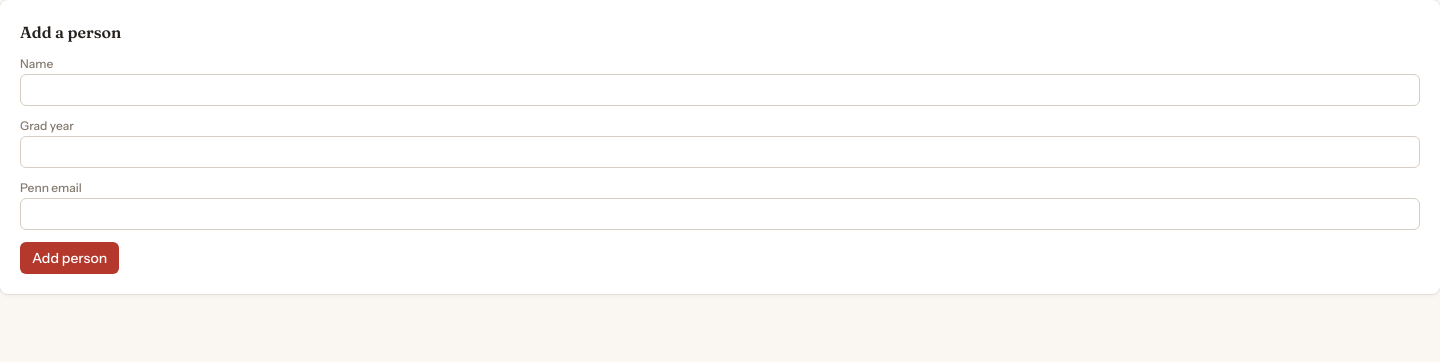
Test: AddPersonForm › shows a database error verbatim
Type "Dup" into the field labelled "Name" at (720, 90), box [20, 74, 1420, 106]
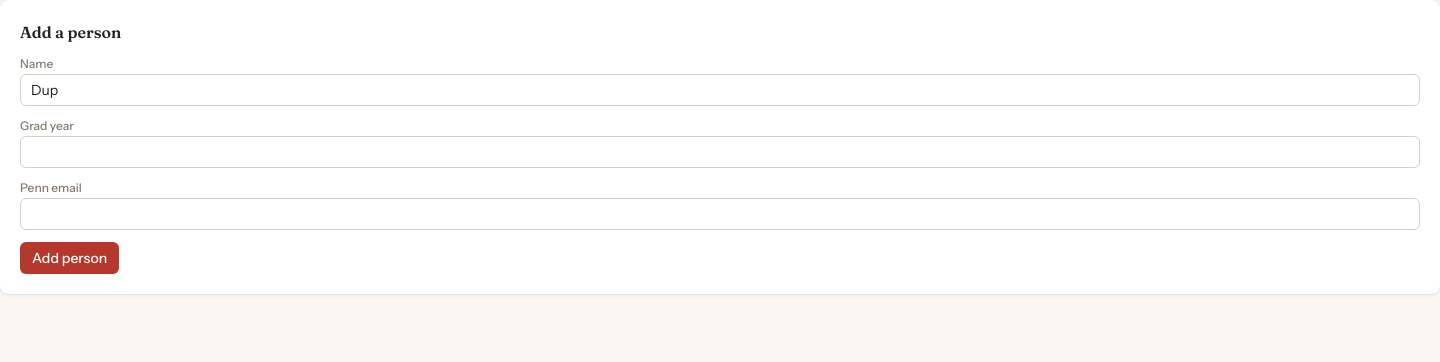
Type "2026" into the field labelled "Grad year" at (720, 152), box [20, 136, 1420, 168]
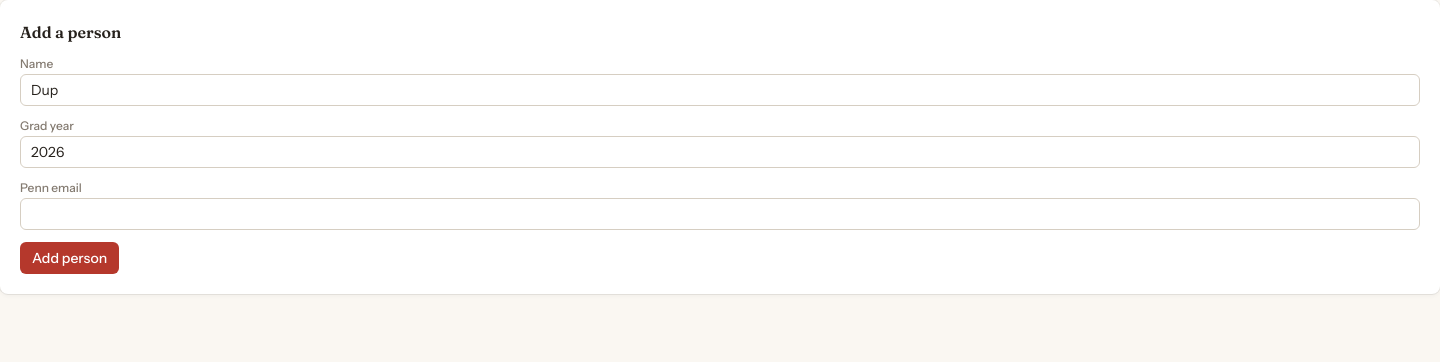
Type "dup@upenn.edu" into the field labelled "Penn email" at (720, 214), box [20, 198, 1420, 230]
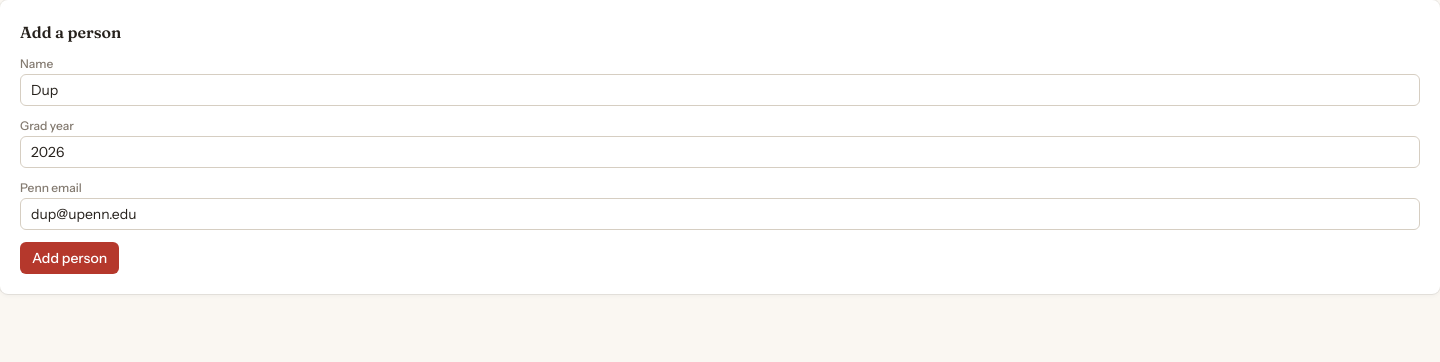
Click the button "Add person" at (70, 258), box [20, 242, 119, 274]
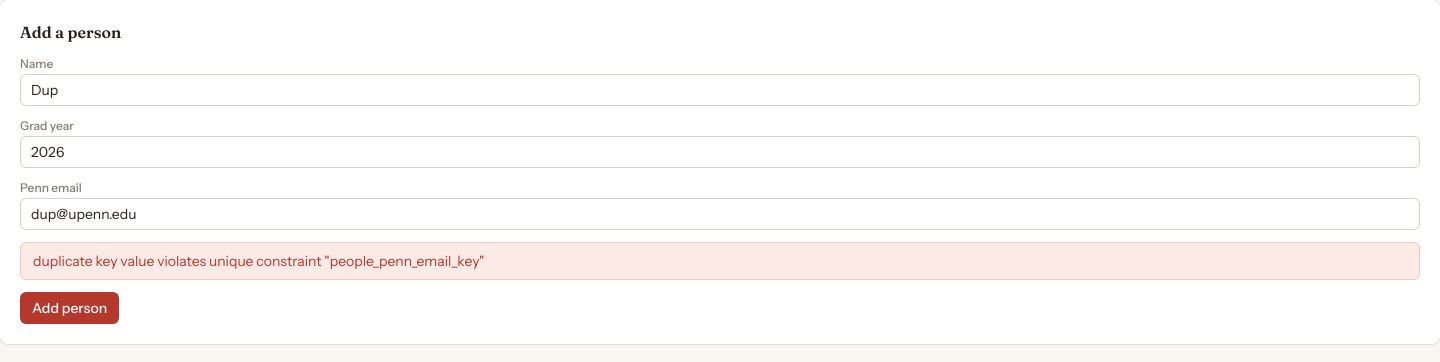
Check: the message shows "people_penn_email_key", box [33, 252, 484, 270]
